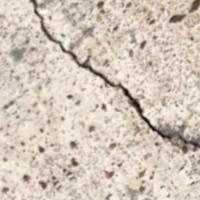crack: (25, 0, 192, 155)
